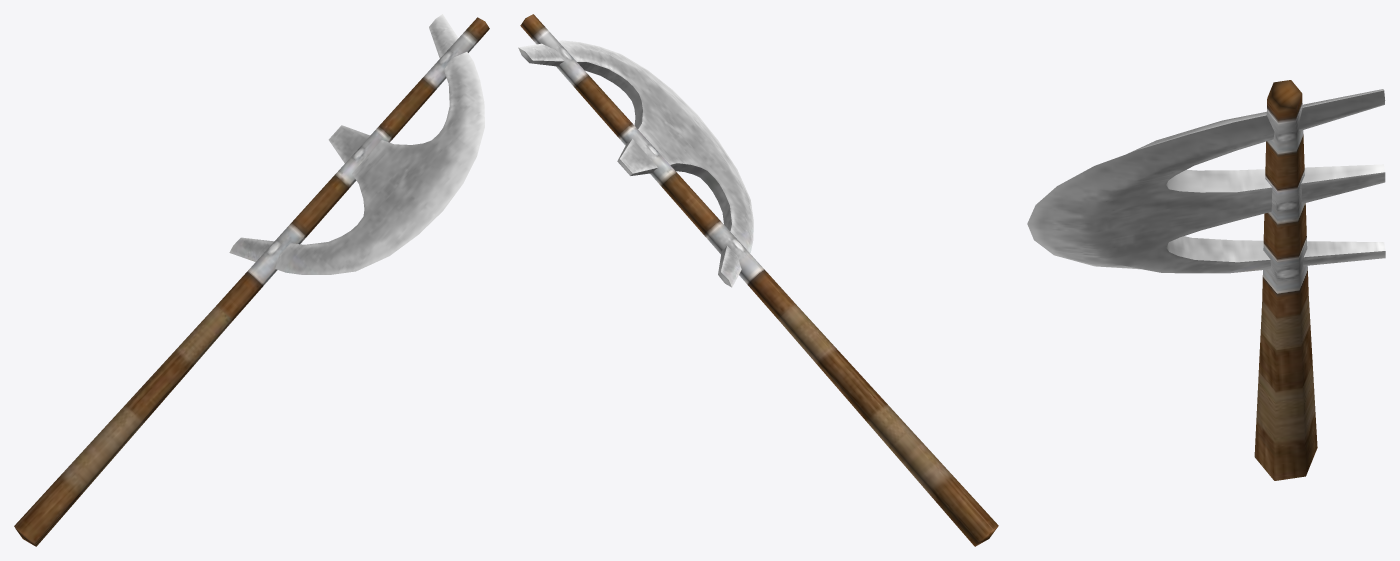
Rendered from weapon-ironweapons.glb.
The picture shows the model from 3 angles, left to right: view 1: azimuth 30°, elevation 25°; view 2: azimuth 150°, elevation 25°; view 3: azimuth 270°, elevation 25°; orthographic projection. The views are drawn at different scales.
Size of the model in its own units: 1.21 by 1.03 by 0.3985.
1 material, 1 textured.
